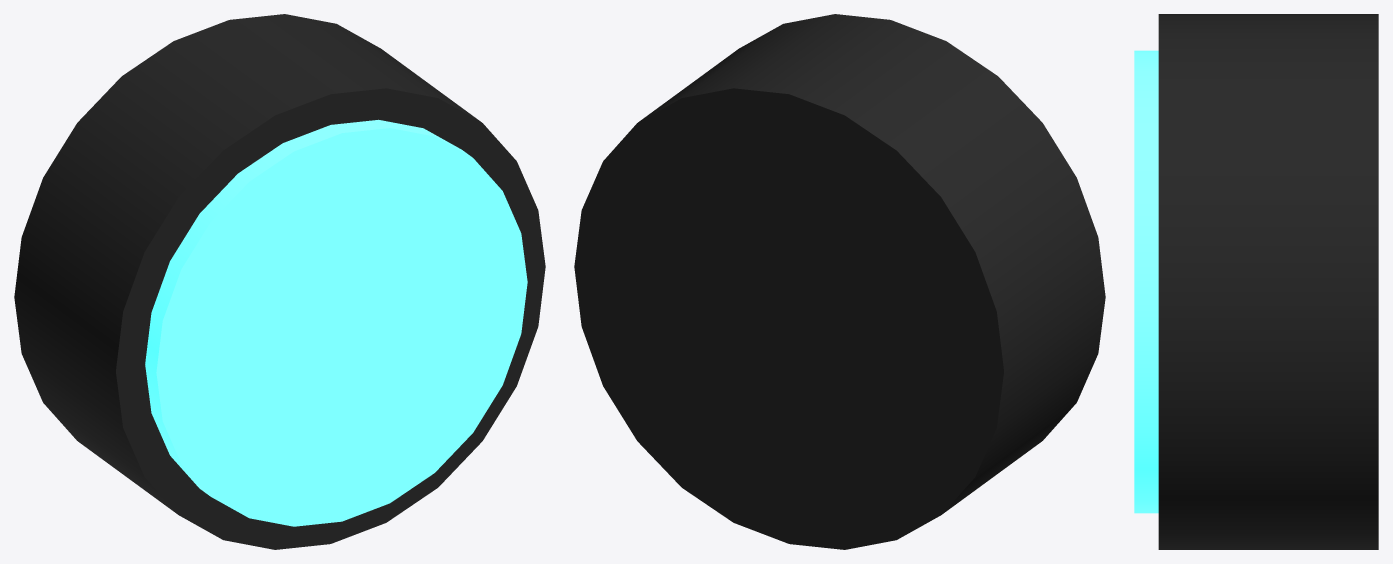
Rendered from wash.glb.
3 views of the same model, side by side, from view 1: azimuth 30°, elevation 25°; view 2: azimuth 150°, elevation 25°; view 3: azimuth 270°, elevation 25° (orthographic). The views are drawn at different scales.
Visible parts, largest first — view 1: Stack_Izq_Ext_ParLED_leds, Stack_Izq_Ext_ParLED_cuerpo; view 2: Stack_Izq_Ext_ParLED_cuerpo; view 3: Stack_Izq_Ext_ParLED_cuerpo, Stack_Izq_Ext_ParLED_leds.
Boxes of the visible parts, x1,y1,x2,y2 form: Stack_Izq_Ext_ParLED_leds: [145, 119, 527, 526]; Stack_Izq_Ext_ParLED_cuerpo: [14, 14, 545, 549]; Stack_Izq_Ext_ParLED_cuerpo: [574, 14, 1105, 549]; Stack_Izq_Ext_ParLED_cuerpo: [1158, 14, 1378, 549]; Stack_Izq_Ext_ParLED_leds: [1134, 50, 1158, 513].
Size of the model in its own units: 0.22 by 0.22 by 0.1.
